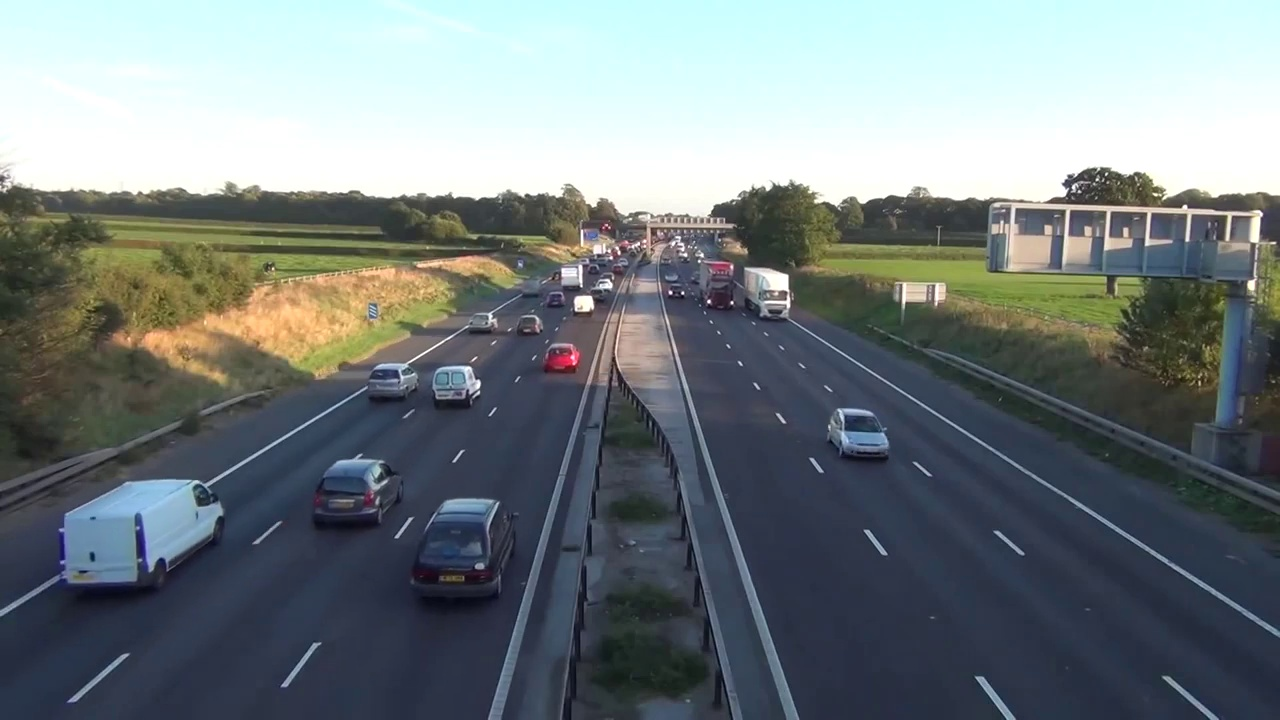bus: (411, 497, 516, 601), (311, 458, 404, 526), (826, 408, 890, 461), (367, 362, 420, 399), (543, 343, 580, 374), (468, 313, 498, 332), (516, 315, 543, 335), (667, 284, 685, 299), (546, 292, 563, 307), (595, 279, 612, 292), (587, 288, 603, 301)
car: (743, 267, 793, 320), (699, 260, 736, 310), (561, 265, 583, 291)
lorry: (58, 479, 223, 592), (431, 365, 482, 408), (573, 296, 594, 316), (520, 280, 540, 297)
